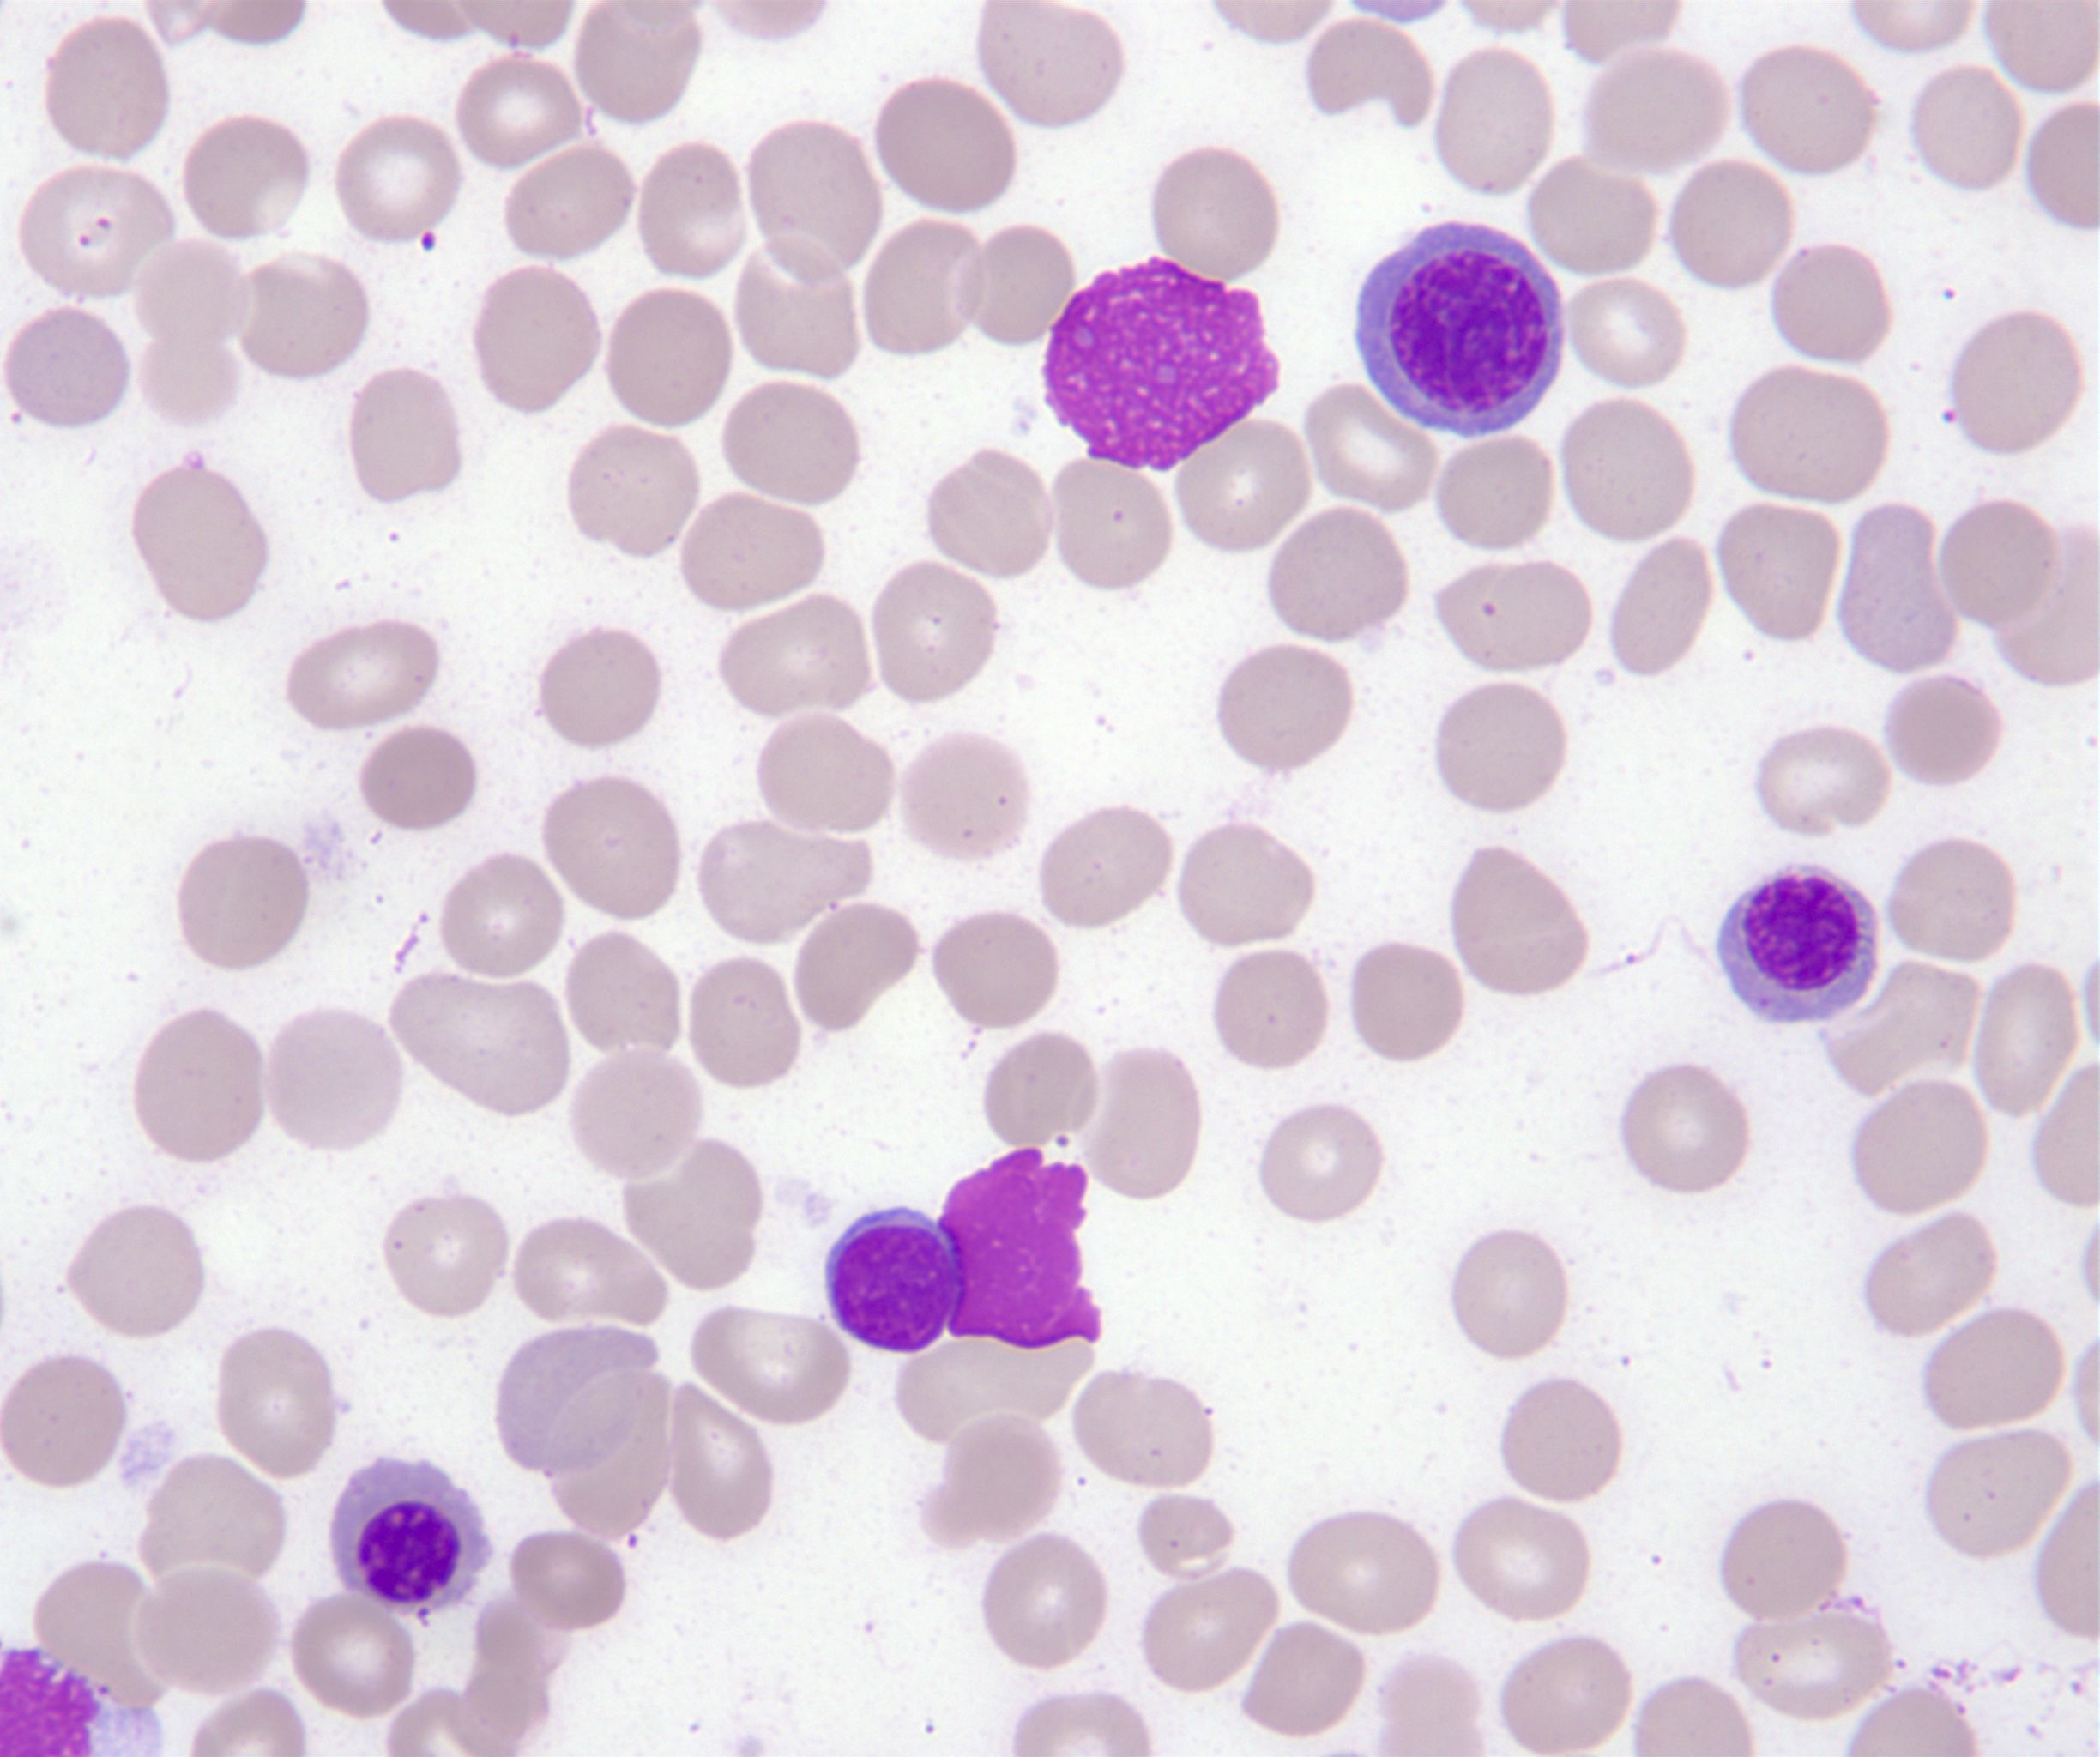23: (1359, 223, 1561, 438)
24: (331, 1460, 492, 1617), (1718, 871, 1873, 1019)
32: (823, 1206, 959, 1354)
x: (1045, 258, 1280, 473), (937, 1150, 1102, 1349)
